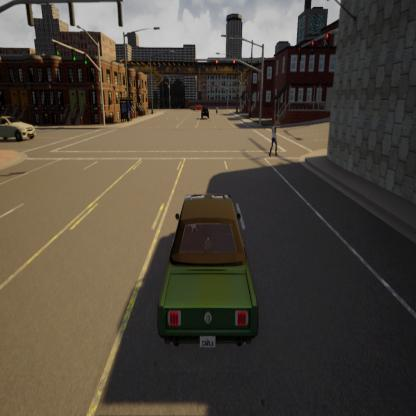Cars: (155, 191, 262, 355), (0, 112, 36, 142), (200, 102, 210, 123)
Pedestrian: (270, 118, 280, 160)
